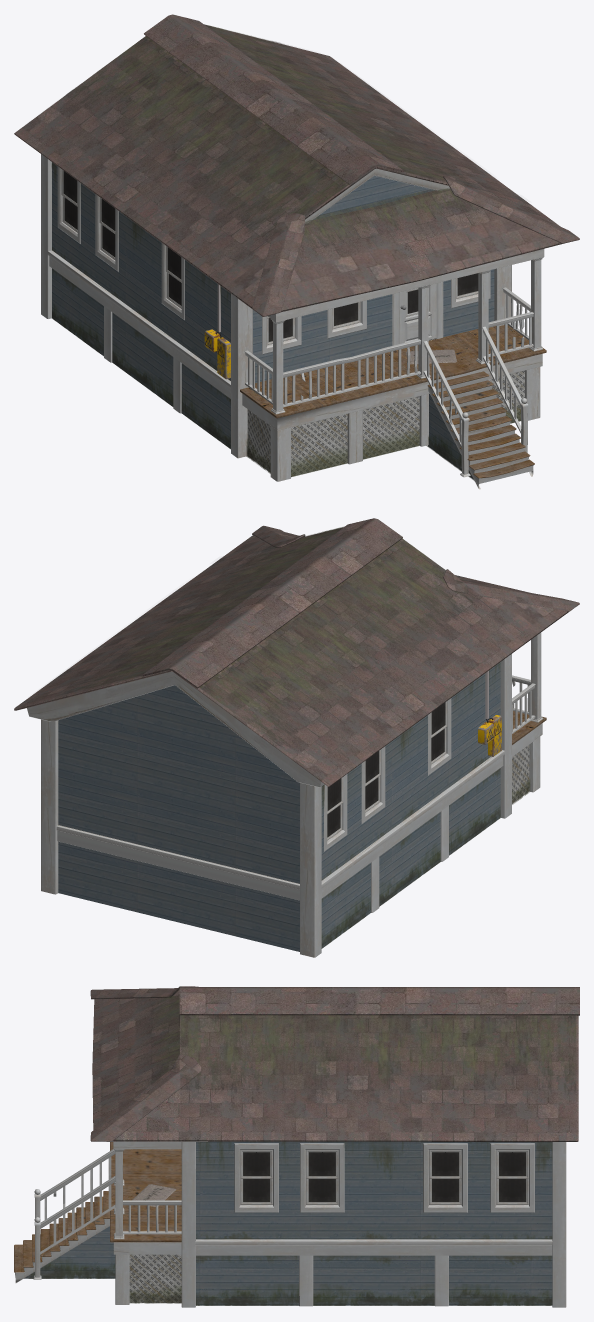
File: lp_americans_house_mobile (1).glb
3 views of the same model, one above another, from view 1: azimuth 30°, elevation 25°; view 2: azimuth 150°, elevation 25°; view 3: azimuth 270°, elevation 25° (orthographic). The views are drawn at different scales.
Parts seen in each view (by area): view 1: LPHouse_MHousRoof_0, LPHouseDecals_MHouseDecales_0, LPHouse_MHousWood_0, LPHouse_MHouseWall_0, LPHouse_MHouseWindowsDoorProps_0, LPHouse_MHouseWoodFloor_0, LPHouse_MHouseWoodGrate_0; view 2: LPHouse_MHousRoof_0, LPHouse_MHouseWall_0, LPHouseDecals_MHouseDecales_0, LPHouse_MHousWood_0, LPHouse_MHouseWindowsDoorProps_0, LPHouse_MHouseWoodGrate_0; view 3: LPHouse_MHousRoof_0, LPHouseDecals_MHouseDecales_0, LPHouse_MHouseWall_0, LPHouse_MHousWood_0, LPHouse_MHouseWindowsDoorProps_0, LPHouse_MHouseWoodFloor_0, LPHouse_MHouseWoodGrate_0.
Boxes of the visible parts, <box> form: LPHouse_MHousRoof_0: <box>14,14,579,316</box>; LPHouseDecals_MHouseDecales_0: <box>49,24,520,480</box>; LPHouse_MHousWood_0: <box>41,154,544,489</box>; LPHouse_MHouseWall_0: <box>52,162,494,479</box>; LPHouse_MHouseWindowsDoorProps_0: <box>57,166,490,379</box>; LPHouse_MHouseWoodFloor_0: <box>240,325,546,478</box>; LPHouse_MHouseWoodGrate_0: <box>247,370,524,476</box>; LPHouse_MHousRoof_0: <box>14,518,579,786</box>; LPHouse_MHouseWall_0: <box>58,662,500,951</box>; LPHouseDecals_MHouseDecales_0: <box>64,526,530,948</box>; LPHouse_MHousWood_0: <box>27,632,543,957</box>; LPHouse_MHouseWindowsDoorProps_0: <box>324,670,501,851</box>; LPHouse_MHouseWoodGrate_0: <box>512,745,529,803</box>; LPHouse_MHousRoof_0: <box>90,986,579,1141</box>; LPHouseDecals_MHouseDecales_0: <box>26,995,576,1305</box>; LPHouse_MHouseWall_0: <box>24,1141,552,1305</box>; LPHouse_MHousWood_0: <box>15,1141,566,1307</box>; LPHouse_MHouseWindowsDoorProps_0: <box>132,1143,534,1212</box>; LPHouse_MHouseWoodFloor_0: <box>14,1142,181,1272</box>; LPHouse_MHouseWoodGrate_0: <box>129,1254,181,1302</box>.
Bounding box in the file's own units: 5.93 × 4.77 × 9.4.
7 materials, 7 textured.
